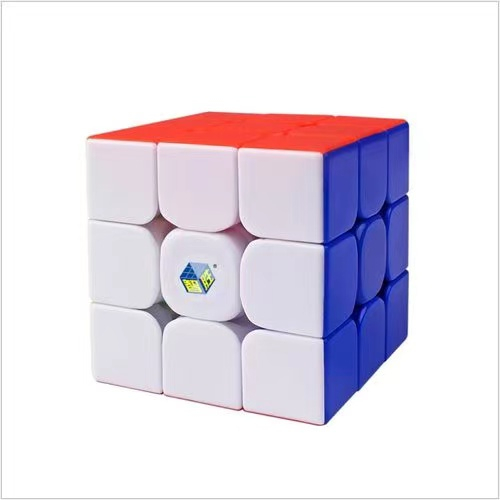cube: (84, 109, 412, 430)
